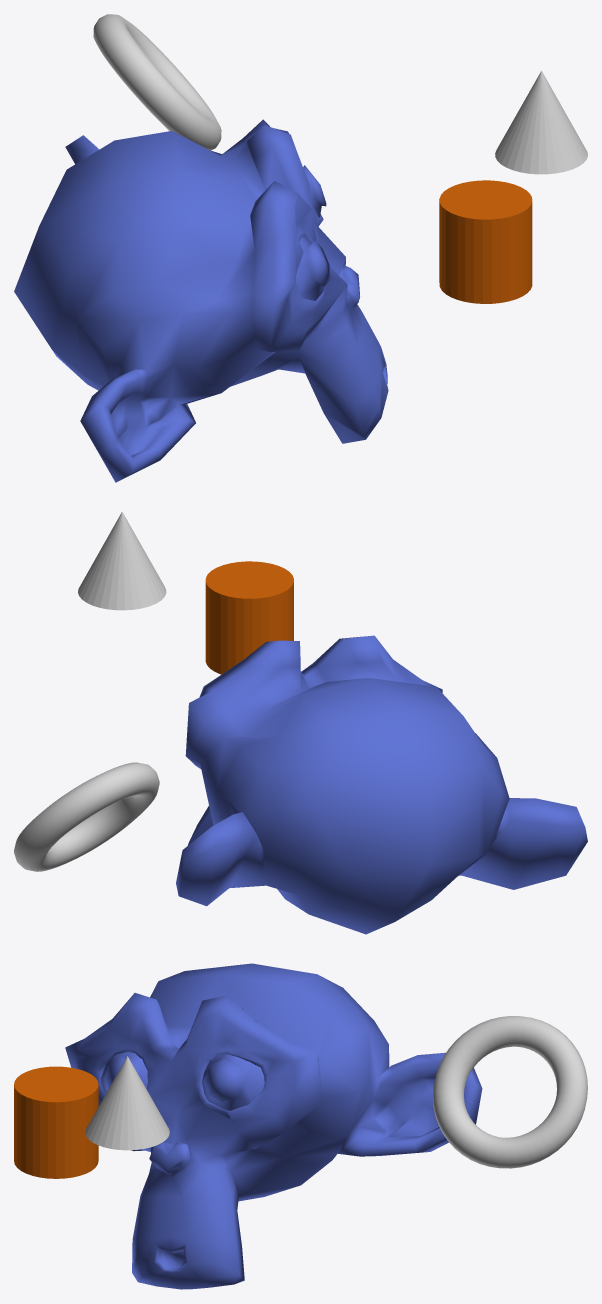
3 renders of one model, top to bottom at view 1: azimuth 30°, elevation 25°; view 2: azimuth 150°, elevation 25°; view 3: azimuth 270°, elevation 25°, orthographic. The views are drawn at different scales.
Parts seen in each view (by area): view 1: Suzanne, Cylinder, Torus, Cone; view 2: Suzanne, Torus, Cylinder, Cone; view 3: Suzanne, Torus, Cylinder, Cone.
Part boxes in pixels (x1,y1,x2,y2): Suzanne: (14, 119, 388, 482); Cylinder: (439, 180, 532, 303); Torus: (93, 14, 221, 150); Cone: (495, 71, 587, 174); Suzanne: (176, 635, 587, 934); Torus: (14, 762, 159, 871); Cylinder: (205, 561, 293, 674); Cone: (78, 512, 166, 610); Suzanne: (65, 963, 482, 1289); Torus: (433, 1016, 587, 1168); Cylinder: (14, 1066, 98, 1178); Cone: (85, 1056, 169, 1150).
Bounding box in the file's own units: 12.76 × 13.57 × 7.97.
